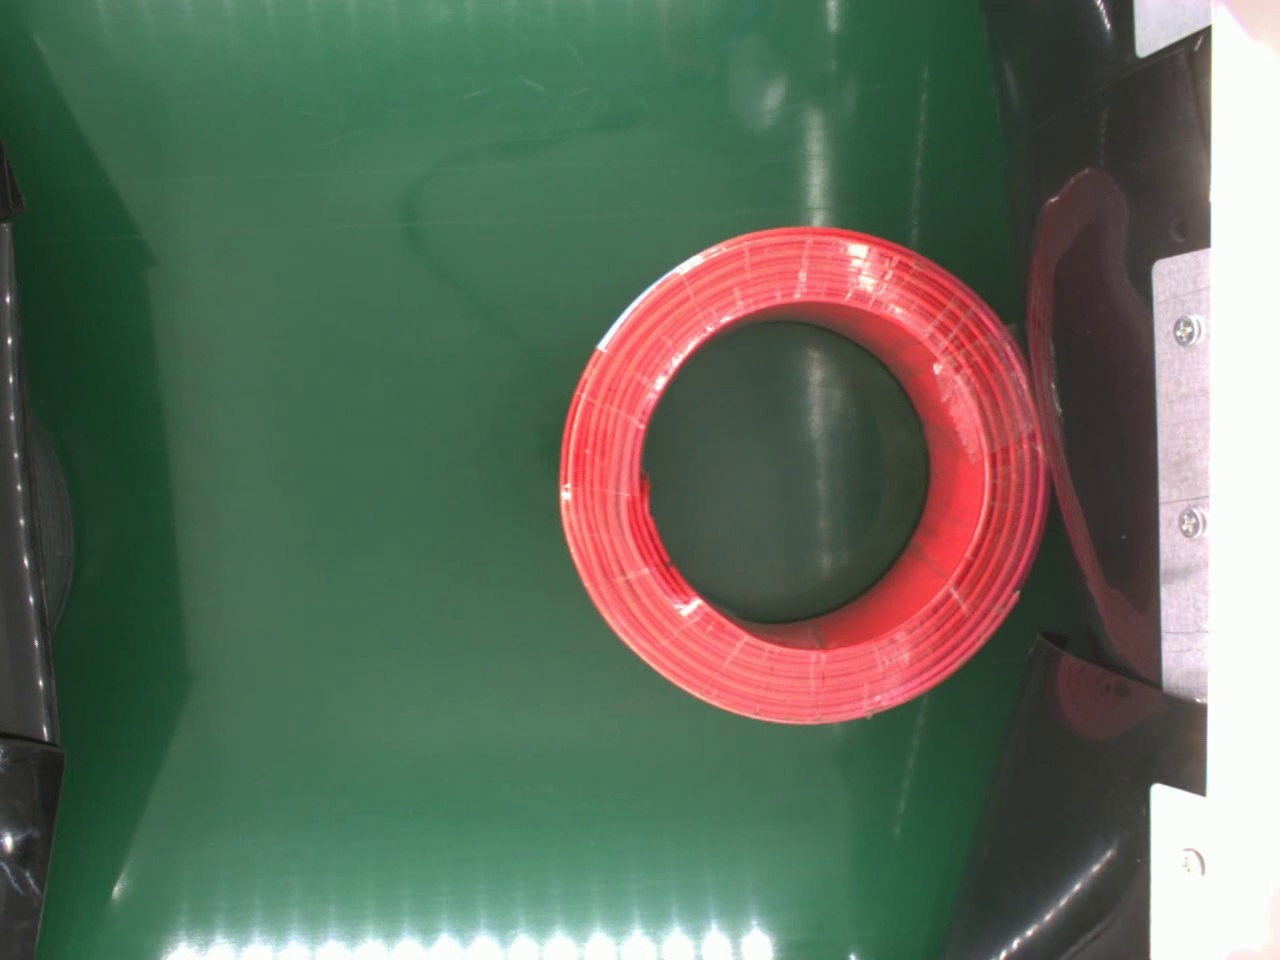red: (555, 224, 1048, 728)
